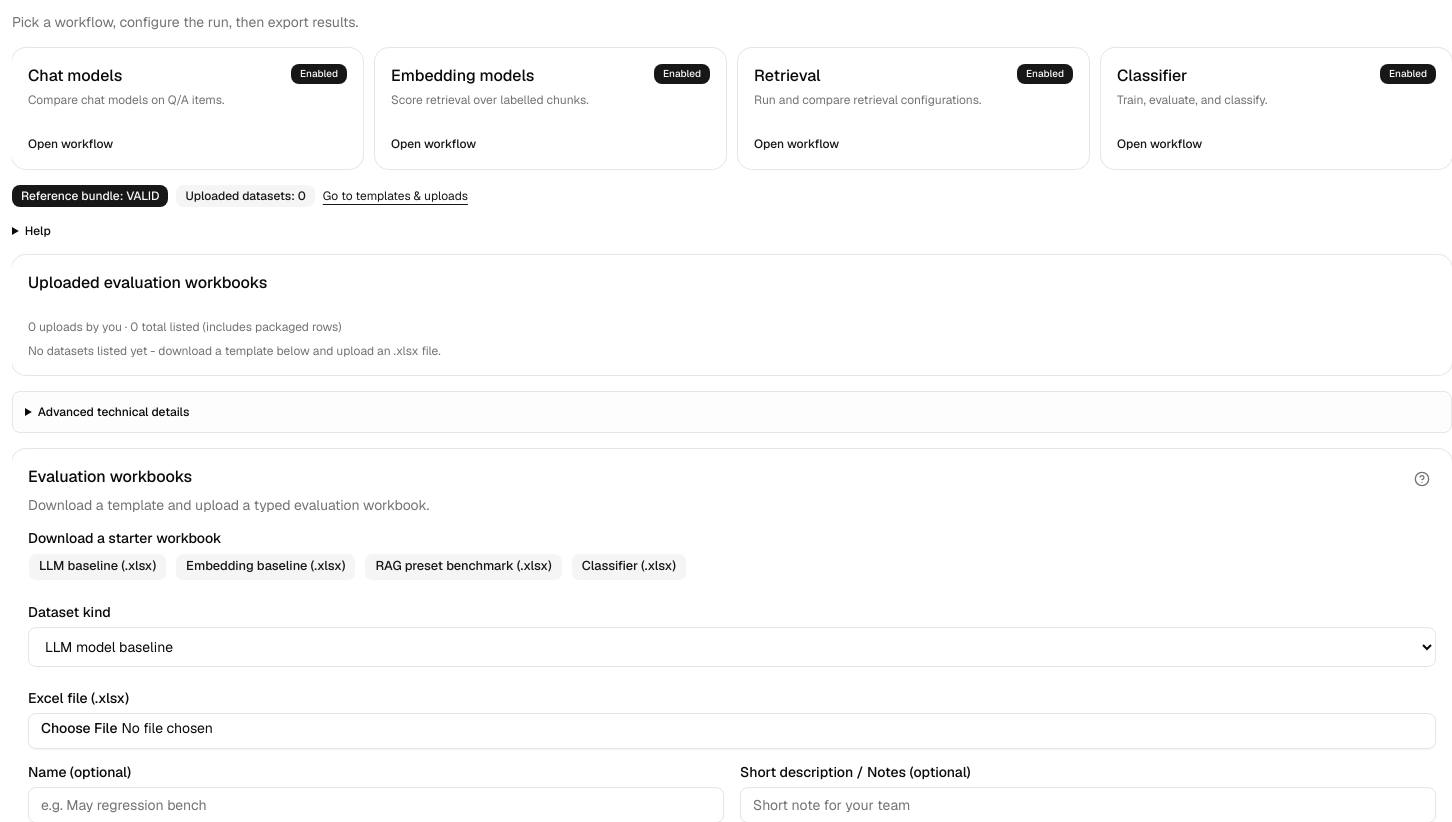
Test: LabOverviewPage › shows typed reference workbook counts inside developer diagnostics when expanded
This screenshot has width=1452, height=822.
expect the element with test id "lab-overview-uploaded-datasets" is shown: met, box left=12, top=254, right=1451, bottom=374
expect the text "LLM rows: 12" is not shown: met
Click the heading "Advanced technical details" at (114, 412), box left=38, top=404, right=189, bottom=420
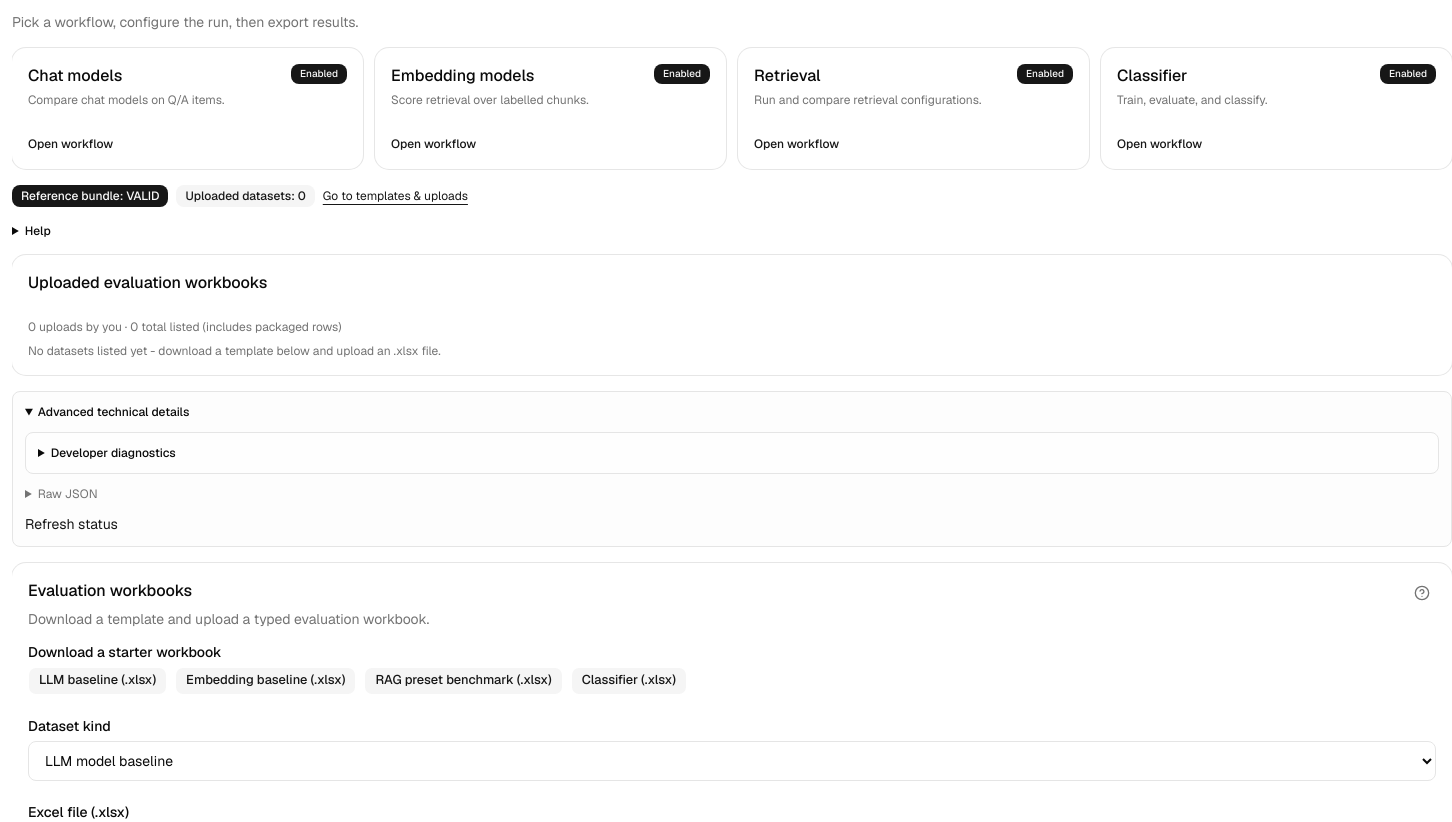
Click the heading "Developer diagnostics" at (113, 452), box left=51, top=444, right=176, bottom=460
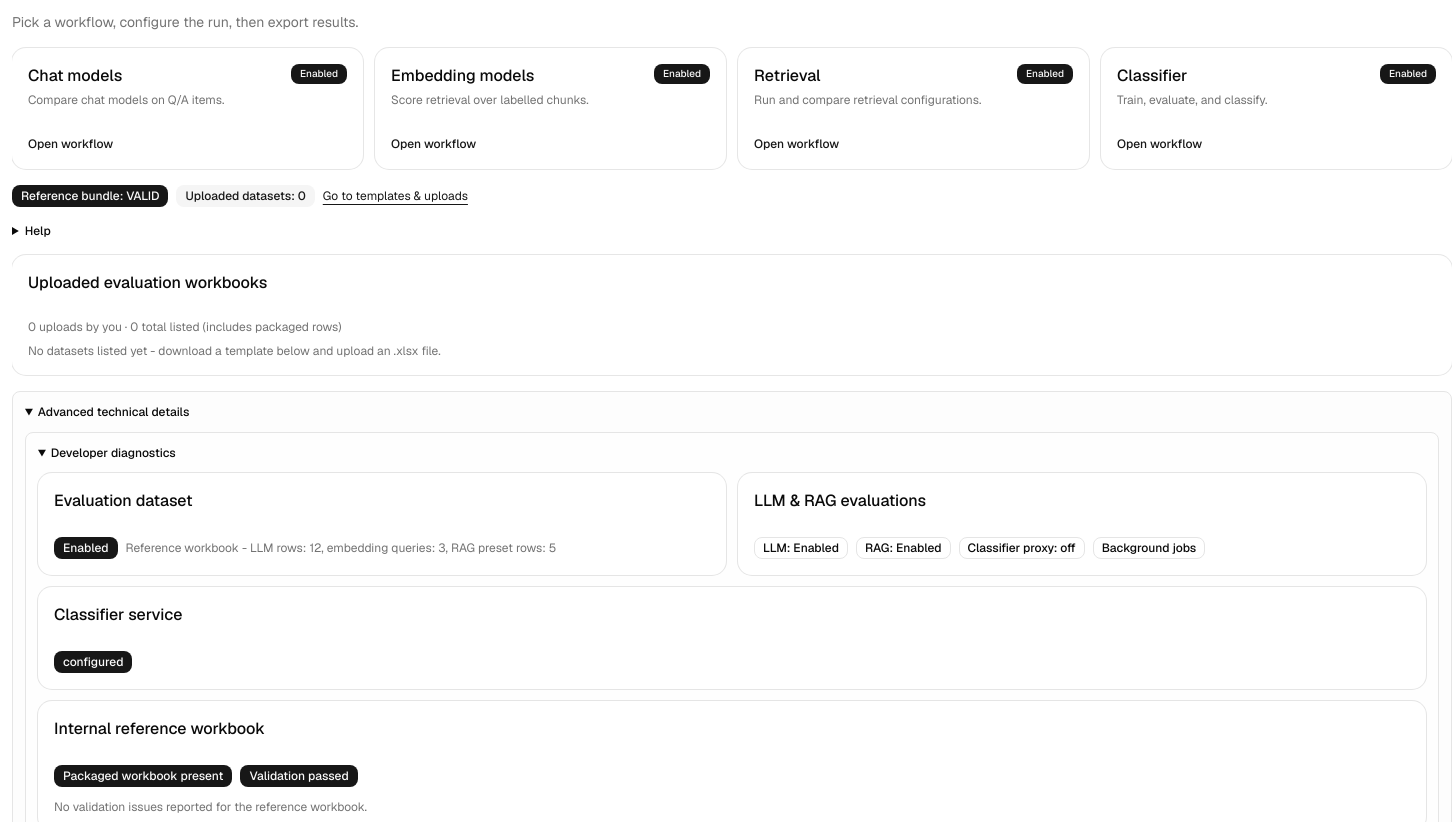
expect the text "LLM rows: 12" is shown: met, box left=126, top=540, right=556, bottom=556
expect the text "Packaged workbook present" is shown: met, box left=63, top=768, right=223, bottom=784
